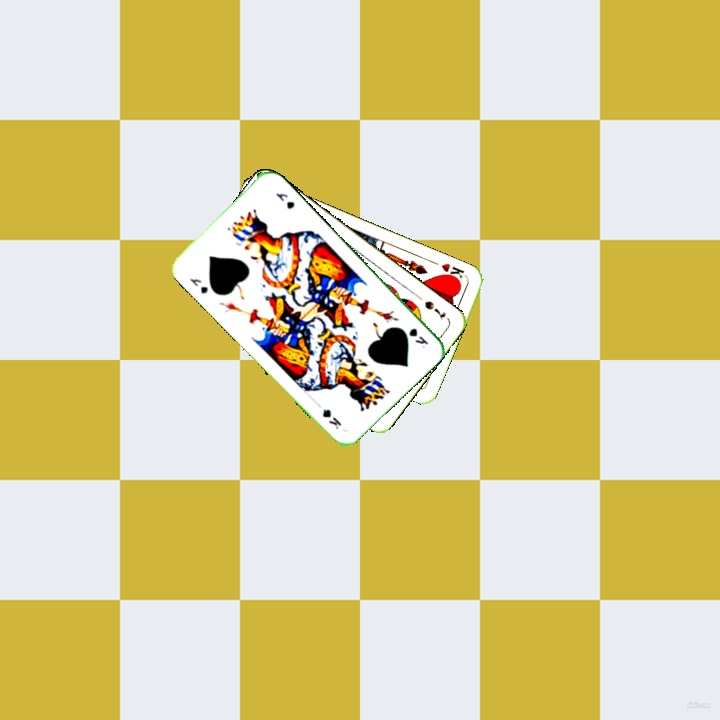GK: (405, 324, 431, 351), (185, 274, 211, 296)
HK: (437, 259, 469, 284)
S7: (420, 297, 448, 323)
